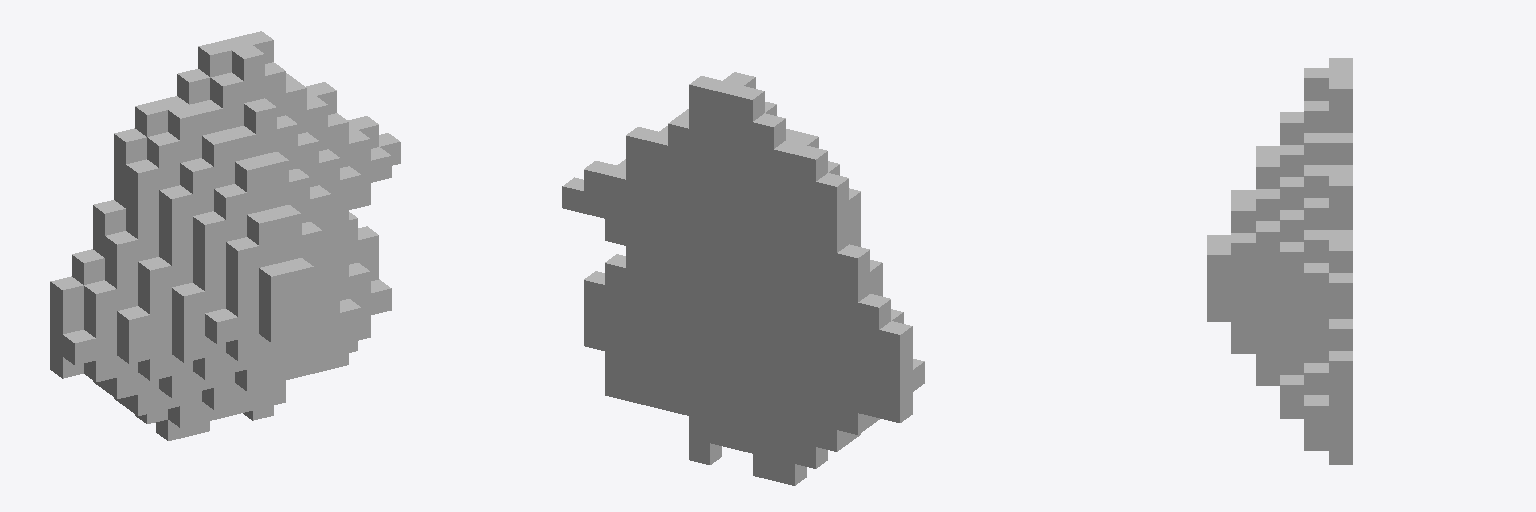
Rendered from stone1.obj.
3 views of the same model, side by side, from view 1: azimuth 30°, elevation 25°; view 2: azimuth 150°, elevation 25°; view 3: azimuth 270°, elevation 25° (orthographic).
Size of the model in its own units: 16 by 17 by 6.